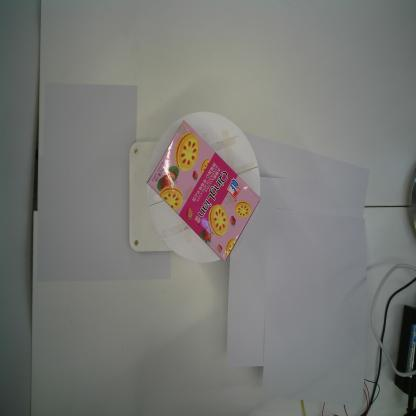Dessert: (147, 119, 261, 262)
